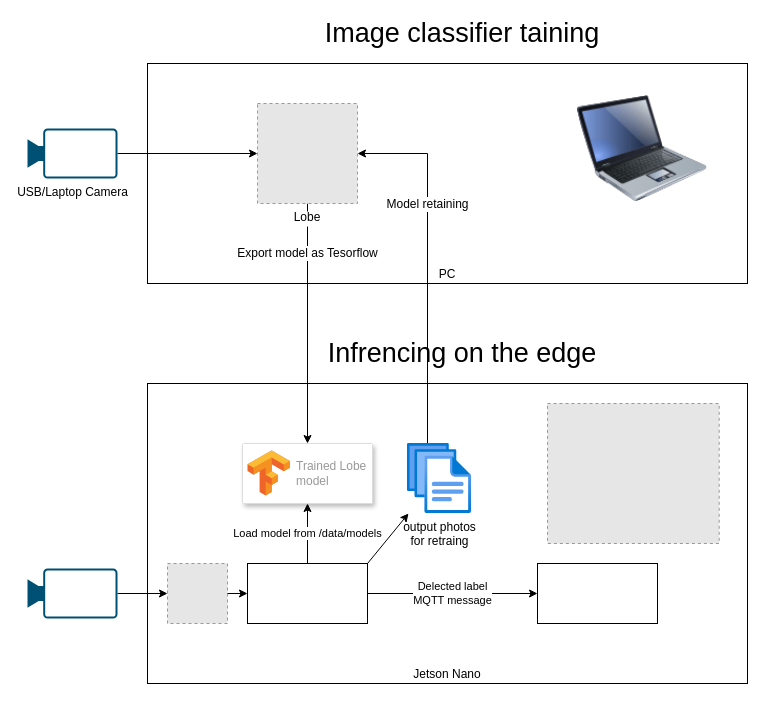
Image size: 765x701. Some labels were removed from this diagram. Grey dashed boxes stand in for pictures. Each missing label, with the centre of its shape:
"CSI Camera" goes at point (72, 593).
"Home Assitance" goes at point (597, 593).
"OpenCV" goes at point (307, 593).
